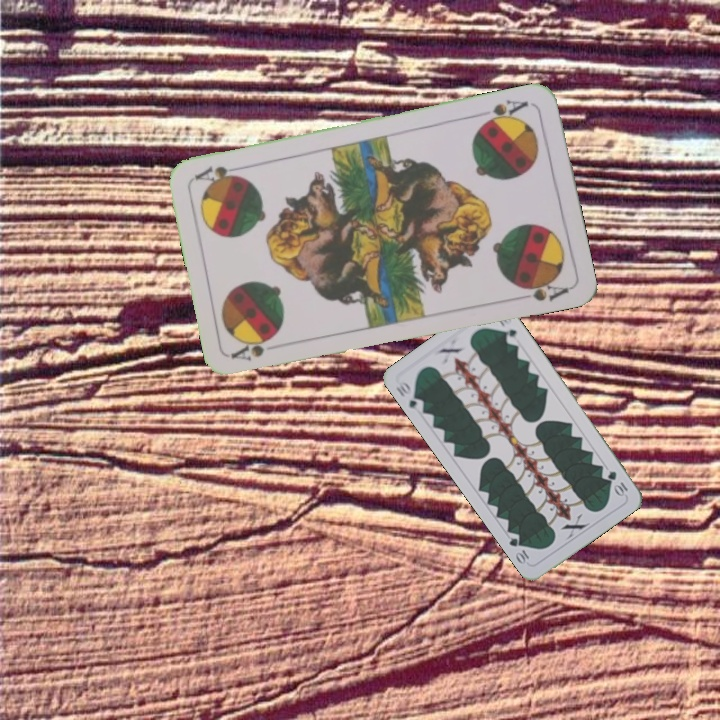G10: (392, 376, 427, 415), (603, 467, 630, 499)
SA: (477, 95, 531, 128), (228, 333, 277, 364)
